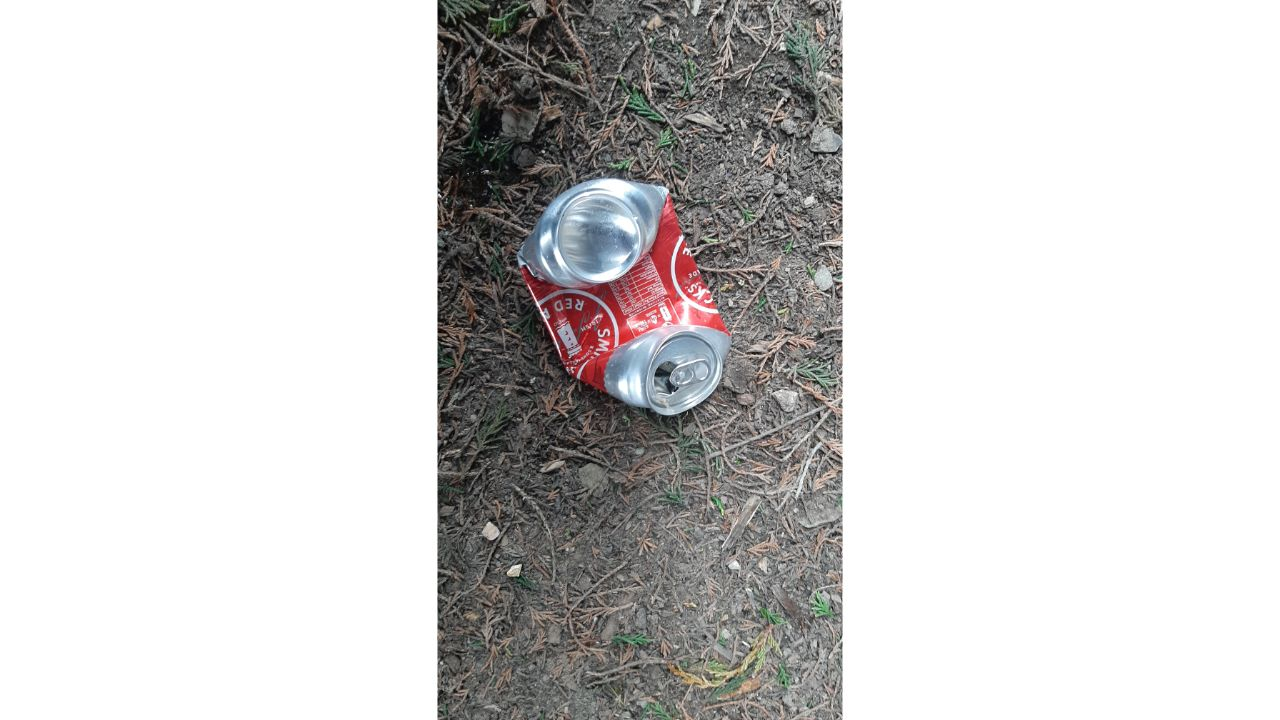Can: (514, 174, 734, 420)
